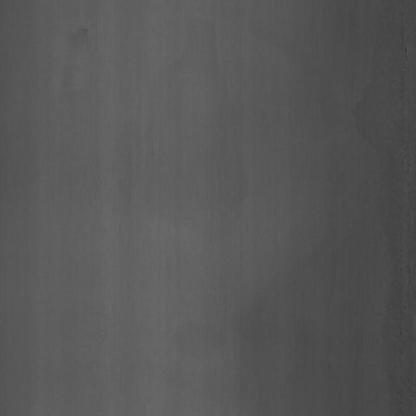oil_spot: (134, 27, 259, 263)
